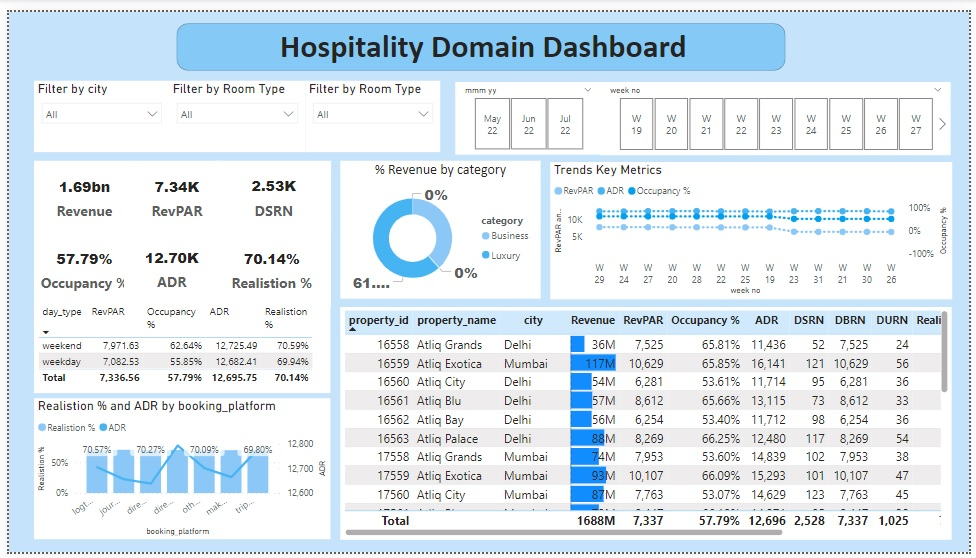

This screenshot's page, from the dashboard's own definition file:
{"tool":"powerbi","page":{"name":"Page 1","canvas":[1280,720],"ordinal":0},"visuals":[{"type":"card","fields":{"Values":["key_measures.Revenue"]},"box":[33.5,198.5,134.6,96.7],"z":0,"group":"g2"},{"type":"card","fields":{"Values":["key_measures.RevPAR"]},"box":[165.9,197.9,114.3,97.1],"z":1000,"group":"g2"},{"type":"shape","box":[224,15,812,63],"z":1500},{"type":"slicer","title":"Filter by Room Type","fields":{"Values":["dim_rooms.room_class"]},"box":[213.3,91.7,181.7,95],"z":2000},{"type":"card","fields":{"Values":["key_measures.DSRN"]},"box":[275.6,198.4,152.8,96.4],"z":2000,"group":"g2"},{"type":"slicer","fields":{"Values":["dim_date.mmm yy"]},"box":[595,92.5,194.1,96.4],"z":3000,"group":"g1"},{"type":"card","fields":{"Values":["key_measures.Occupancy %"]},"box":[33.5,293.2,134.6,99.7],"z":3000,"group":"g2"},{"type":"tableEx","fields":{"Values":["dim_hotels.property_id","dim_hotels.property_name","dim_hotels.city","key_measures.Revenue","key_measures.RevPAR","key_measures.Occupancy %","key_measures.ADR","key_measures.DSRN","key_measures.DBRN","key_measures.DURN","key_measures.Realistion %","key_measures.Cancellation %"]},"box":[441.7,393.3,815,310],"z":3000},{"type":"slicer","title":"Filter by city","fields":{"Values":["dim_hotels.city"]},"box":[33.3,91.7,180,95],"z":4000},{"type":"card","fields":{"Values":["key_measures.ADR"]},"box":[153,288.1,127.1,105.7],"z":4000,"group":"g2"},{"type":"card","fields":{"Values":["key_measures.Realistion %"]},"box":[270.4,293.2,158,99.7],"z":5000,"group":"g2"},{"type":"lineStackedColumnComboChart","fields":{"Y":["key_measures.Realistion %"],"Y2":["key_measures.ADR"],"Category":["fact_bookings.booking_platform"]},"box":[33.3,515,395,188.3],"z":5000},{"type":"donutChart","title":"% Revenue by category","fields":{"Category":["dim_hotels.category"],"Y":["key_measures.Occupancy %","key_measures.Revenue"]},"box":[441.4,198.6,267.1,184.3],"z":6000},{"type":"tableEx","fields":{"Values":["dim_date.day_type","key_measures.RevPAR","key_measures.Occupancy %","key_measures.ADR","key_measures.Realistion %"]},"box":[32.9,382.8,395,125],"z":6000,"group":"g2"},{"type":"lineChart","title":"Trends Key Metrics","fields":{"Category":["dim_date.week no"],"Y2":["key_measures.Occupancy %"],"Y":["key_measures.RevPAR","key_measures.ADR"]},"box":[721.4,200,535.7,182.9],"z":7000},{"type":"group","id":"g1","title":"Group 1","box":[595,92.5,661.2,97.5],"z":8000},{"type":"slicer","title":"Filter by Room Type","fields":{"Values":["dim_rooms.room_class"]},"box":[395,91.7,180,95],"z":9000},{"type":"group","id":"g2","title":"Group 3","box":[32.9,197.9,395.5,309.9],"z":10000},{"type":"textbox","box":[8.3,15,1248.3,63.3],"z":11000},{"type":"slicer","fields":{"Values":["dim_date.week no"]},"box":[789.1,92.5,467.2,97.5],"z":13003,"group":"g1"}]}

Visuals, with their boxes in screenshot pixels (x1, y1, x2, y2), scaled from the page's 1280x720 canvas onto the 976x558 screenshot:
card - key_measures.Revenue: rect(26, 154, 128, 229)
card - key_measures.RevPAR: rect(126, 153, 214, 229)
shape: rect(171, 12, 790, 60)
"Filter by Room Type" slicer: rect(163, 71, 301, 145)
card - key_measures.DSRN: rect(210, 154, 327, 228)
slicer - dim_date.mmm yy: rect(454, 72, 602, 146)
card - key_measures.Occupancy %: rect(26, 227, 128, 304)
tableEx - dim_hotels.property_id x dim_hotels.property_name: rect(337, 305, 958, 545)
"Filter by city" slicer: rect(25, 71, 163, 145)
card - key_measures.ADR: rect(117, 223, 214, 305)
card - key_measures.Realistion %: rect(206, 227, 327, 304)
lineStackedColumnComboChart - key_measures.Realistion % x key_measures.ADR: rect(25, 399, 327, 545)
"% Revenue by category" donutChart: rect(337, 154, 540, 297)
tableEx - dim_date.day_type x key_measures.RevPAR: rect(25, 297, 326, 394)
"Trends Key Metrics" lineChart: rect(550, 155, 959, 297)
"Group 1" group: rect(454, 72, 958, 147)
"Filter by Room Type" slicer: rect(301, 71, 438, 145)
"Group 3" group: rect(25, 153, 327, 394)
textbox: rect(6, 12, 958, 61)
slicer - dim_date.week no: rect(602, 72, 958, 147)
